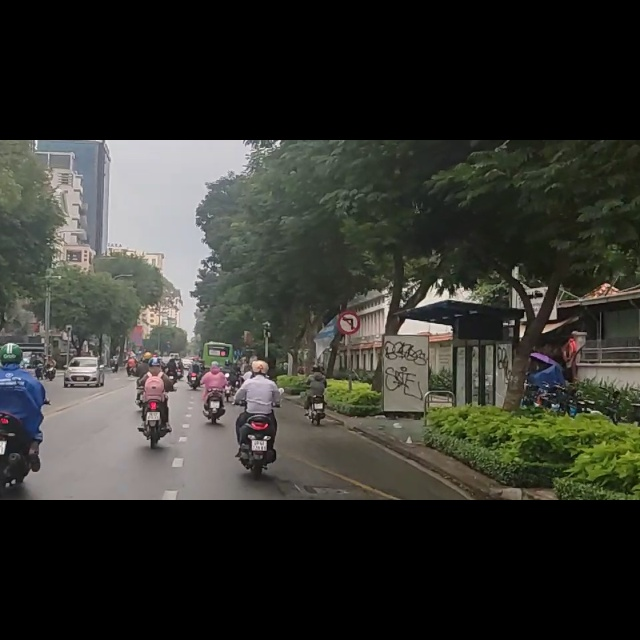bien_hieu_lenh: (337, 301, 360, 346)
